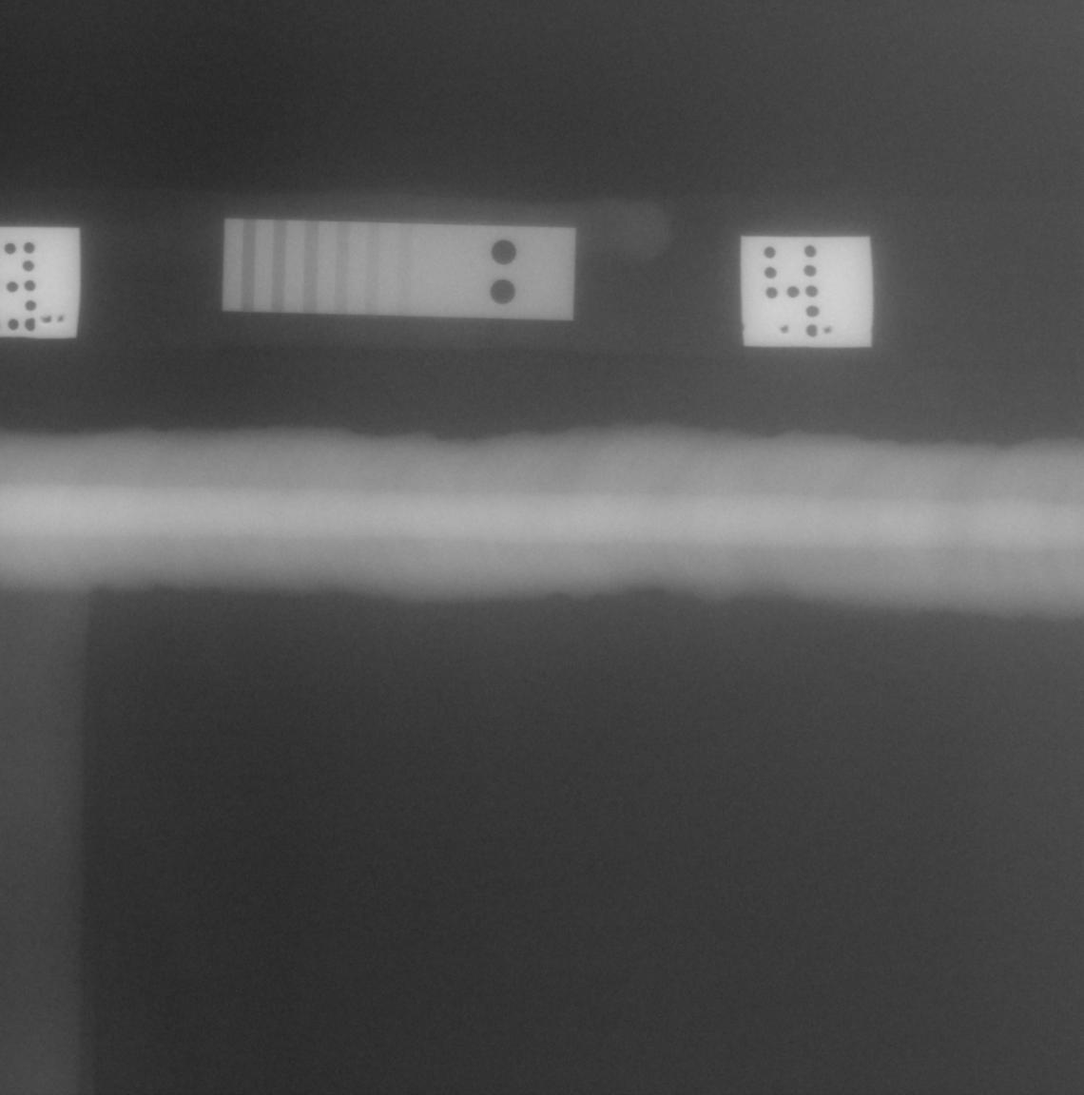Reference Standard 2: (222, 218, 576, 321)
